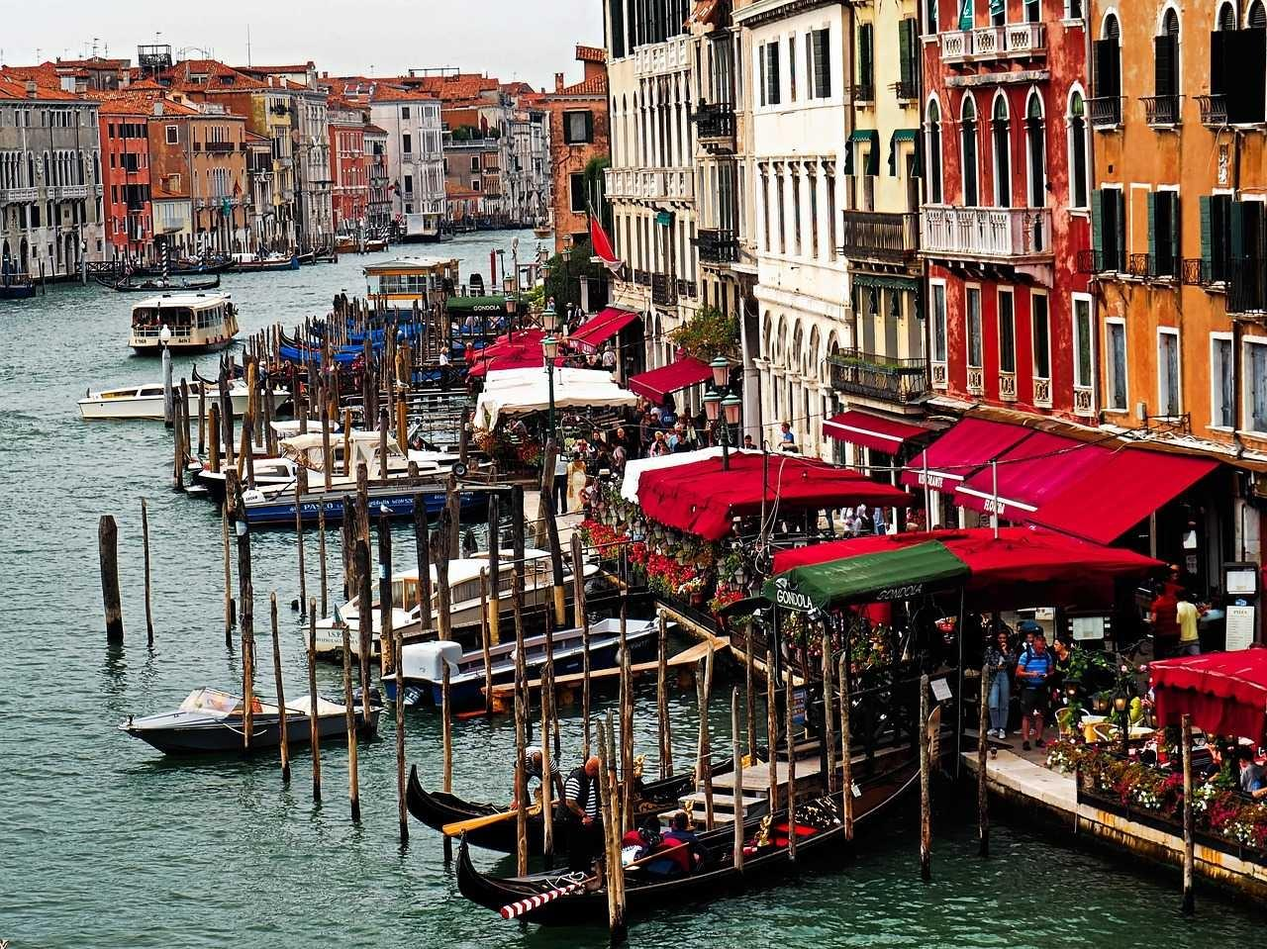kayak: (425, 732, 932, 926), (960, 659, 1266, 911), (390, 597, 719, 709), (332, 549, 565, 693), (242, 431, 460, 521), (117, 685, 382, 759), (231, 476, 451, 527), (128, 291, 240, 356), (79, 384, 170, 421), (0, 281, 35, 299)
